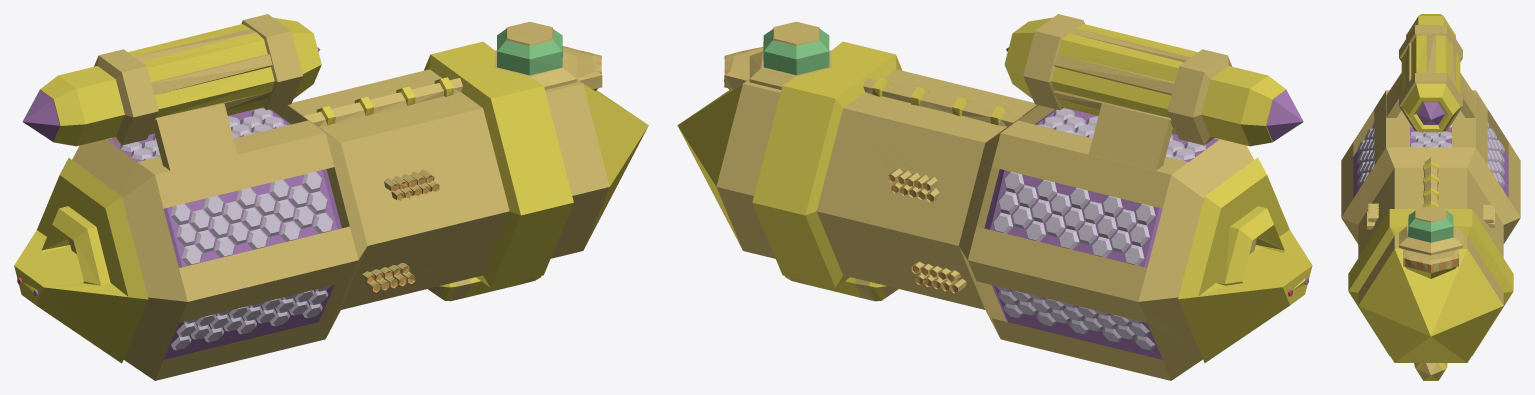
File: shard.glb
3 views of the same model, side by side, from view 1: azimuth 30°, elevation 25°; view 2: azimuth 150°, elevation 25°; view 3: azimuth 270°, elevation 25° (orthographic). The views are drawn at different scales.
Parts seen in each view (by area): view 1: Shard current hull - authored COLOR_0 regions; view 2: Shard current hull - authored COLOR_0 regions; view 3: Shard current hull - authored COLOR_0 regions.
Part boxes in pixels (x1,y1,x2,y2): Shard current hull - authored COLOR_0 regions: (14,14,648,380); Shard current hull - authored COLOR_0 regions: (677,14,1312,380); Shard current hull - authored COLOR_0 regions: (1341,14,1520,380).
Size of the model in its own units: 5.04 by 2.42 by 1.83.
